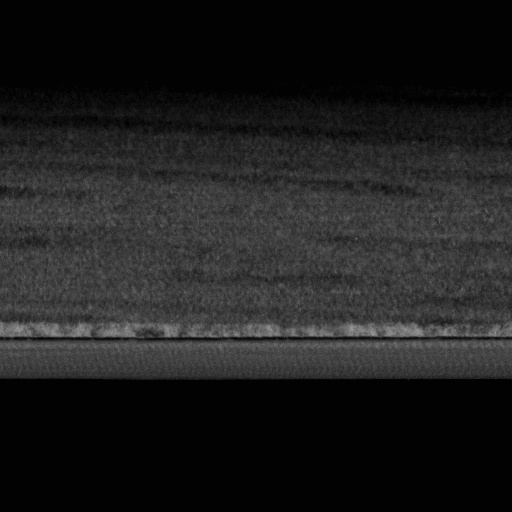jiaofeng: (0, 333, 511, 349)
